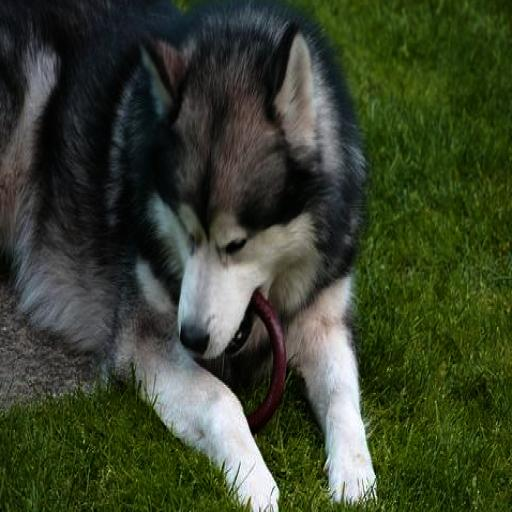dog_face: (138, 32, 337, 390)
